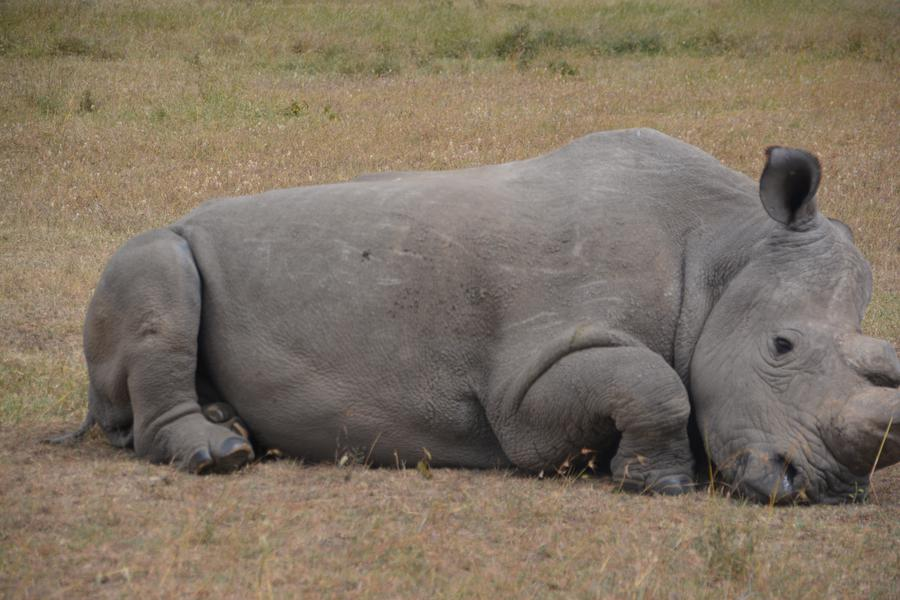rhino: (149, 134, 868, 499)
